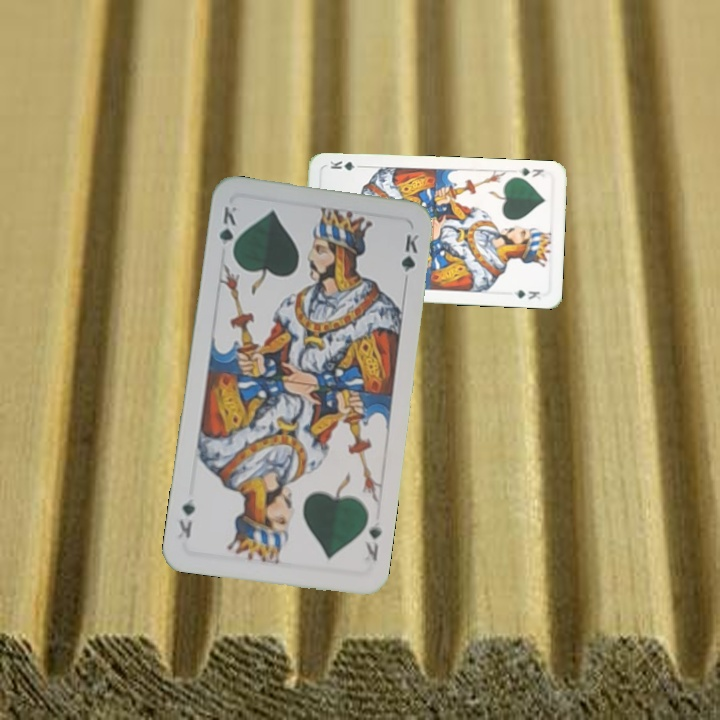GK: (215, 202, 239, 260), (361, 517, 384, 564), (514, 163, 546, 180)
